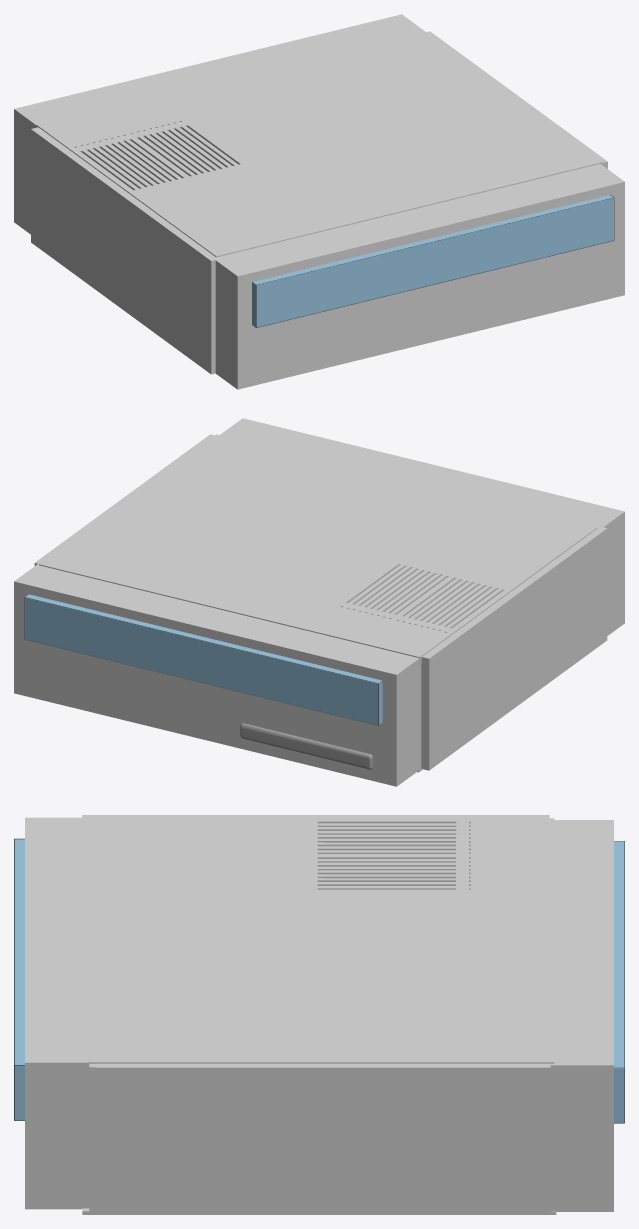
Rendered from interior.fbx.
3 views of the same model, one above another, from view 1: azimuth 30°, elevation 25°; view 2: azimuth 150°, elevation 25°; view 3: azimuth 270°, elevation 25° (orthographic). The views are drawn at different scales.
Visible parts, largest first — view 1: polySurface2, Wall1, Wall, Window1, polySurface3; view 2: polySurface2, Wall, Window, Wall1, Bed.frozen, polySurface3; view 3: polySurface2, Wall1, Wall, Window1, Window.
Boxes of the visible parts, <box> form: polySurface2: <box>36,30,602,257</box>; Wall1: <box>215,31,624,389</box>; Wall: <box>14,14,425,374</box>; Window1: <box>252,194,614,327</box>; polySurface3: <box>81,126,238,189</box>; polySurface2: <box>39,434,597,664</box>; Wall: <box>14,526,607,786</box>; Window: <box>24,594,382,725</box>; Wall1: <box>34,418,624,635</box>; Bed.frozen: <box>240,723,372,769</box>; polySurface3: <box>348,566,502,628</box>; polySurface2: <box>88,818,554,1069</box>; Wall1: <box>25,817,550,1214</box>; Wall: <box>82,815,613,1211</box>; Window1: <box>14,838,24,1120</box>; Window: <box>614,841,624,1123</box>.
Bounding box in the file's own units: 2372 × 660 × 2427.
